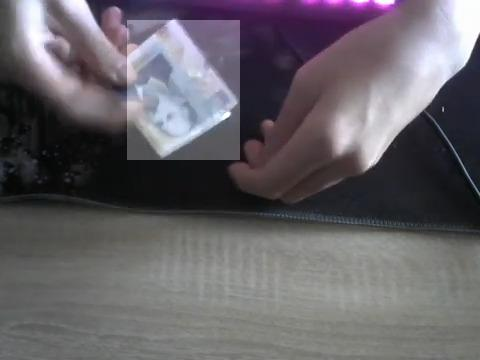20leva: (127, 20, 240, 160)
